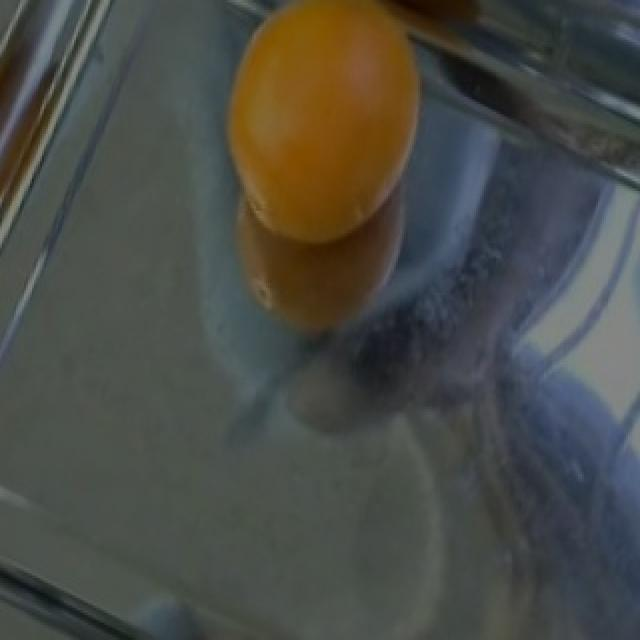Fruit: (204, 0, 442, 263)
